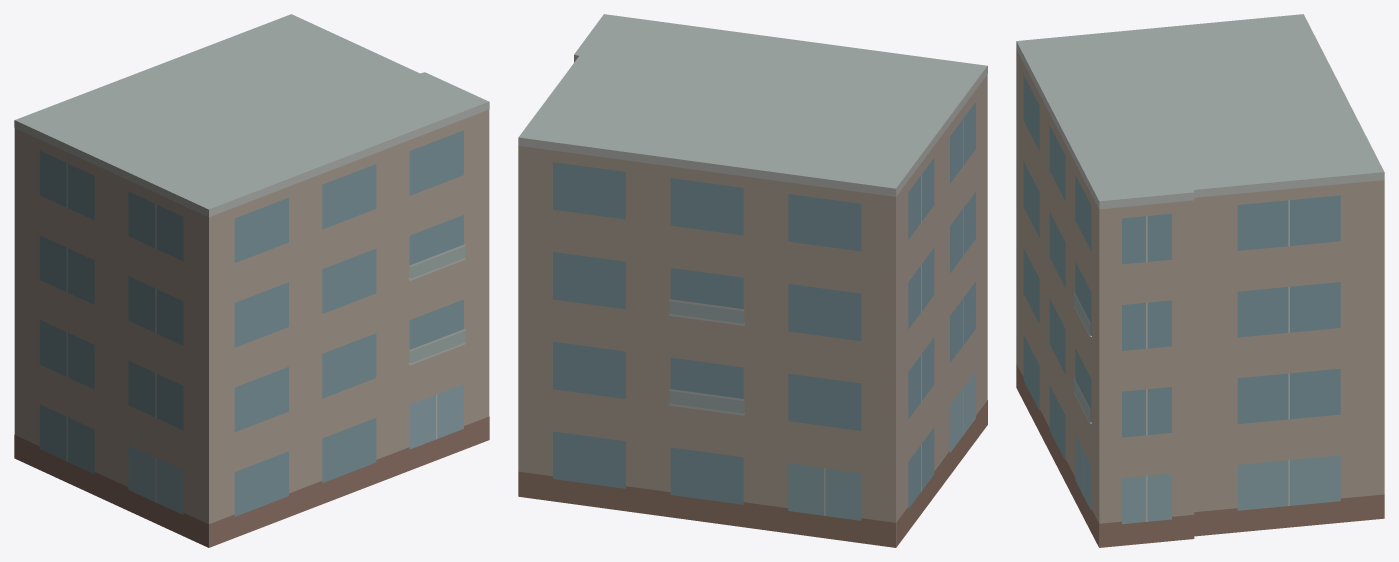
The model's file is survey-upis-32983398.glb.
The picture shows the model from 3 angles, left to right: view 1: azimuth 30°, elevation 25°; view 2: azimuth 150°, elevation 25°; view 3: azimuth 270°, elevation 25°; orthographic projection. The views are drawn at different scales.
Visible parts, largest first — view 1: survey-upis-32983398.tmp; view 2: survey-upis-32983398.tmp; view 3: survey-upis-32983398.tmp.
Part boxes in pixels (x1,y1,x2,y2): survey-upis-32983398.tmp: (14, 14, 489, 547); survey-upis-32983398.tmp: (518, 14, 987, 547); survey-upis-32983398.tmp: (1016, 14, 1384, 547).
Size of the model in its own units: 12.36 by 10.65 by 10.27.
